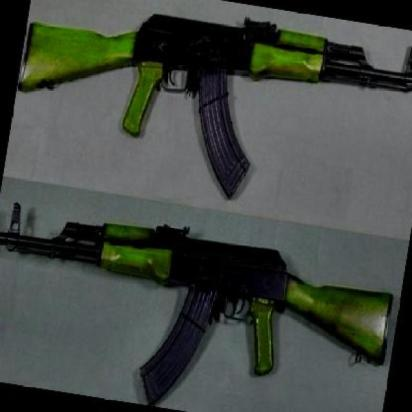Gun: (0, 206, 390, 407), (15, 12, 412, 202)
